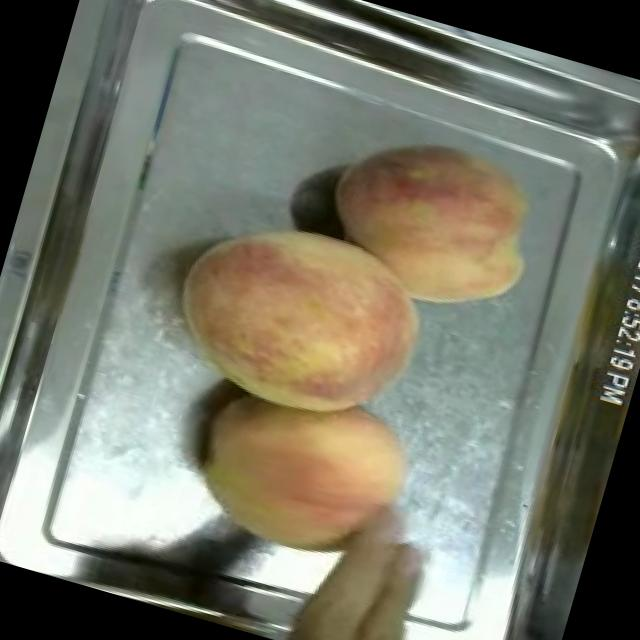Fruit: (151, 189, 451, 448), (301, 106, 563, 338), (170, 367, 433, 591), (272, 499, 465, 640)
